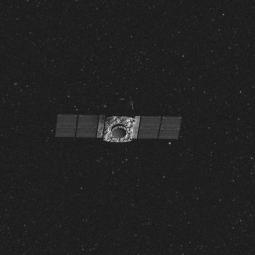soho: (56, 105, 184, 149)
